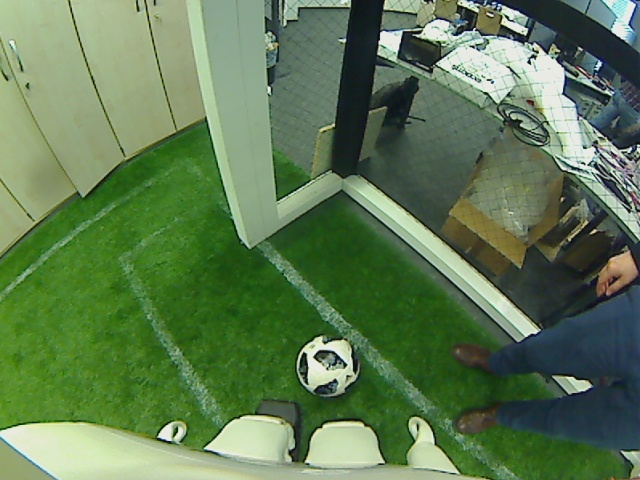ball: (295, 331, 359, 398)
